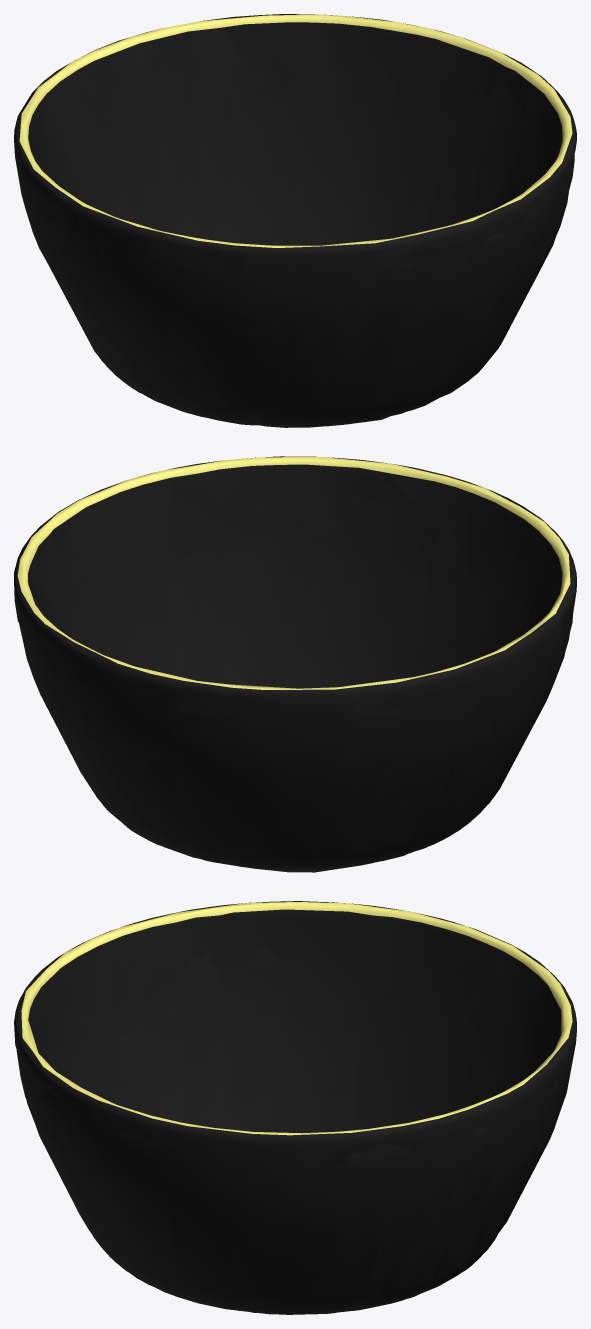
File: bowl.fbx
The picture shows the model from 3 angles, top to bottom: view 1: azimuth 30°, elevation 25°; view 2: azimuth 150°, elevation 25°; view 3: azimuth 270°, elevation 25°; orthographic projection.
Parts seen in each view (by area): view 1: bowl; view 2: bowl; view 3: bowl.
Part boxes in pixels (<box>): bowl: <box>14,14,576,427</box>; bowl: <box>14,456,576,872</box>; bowl: <box>14,901,576,1314</box>.
Size of the model in its own units: 70.33 by 31.36 by 70.33.
